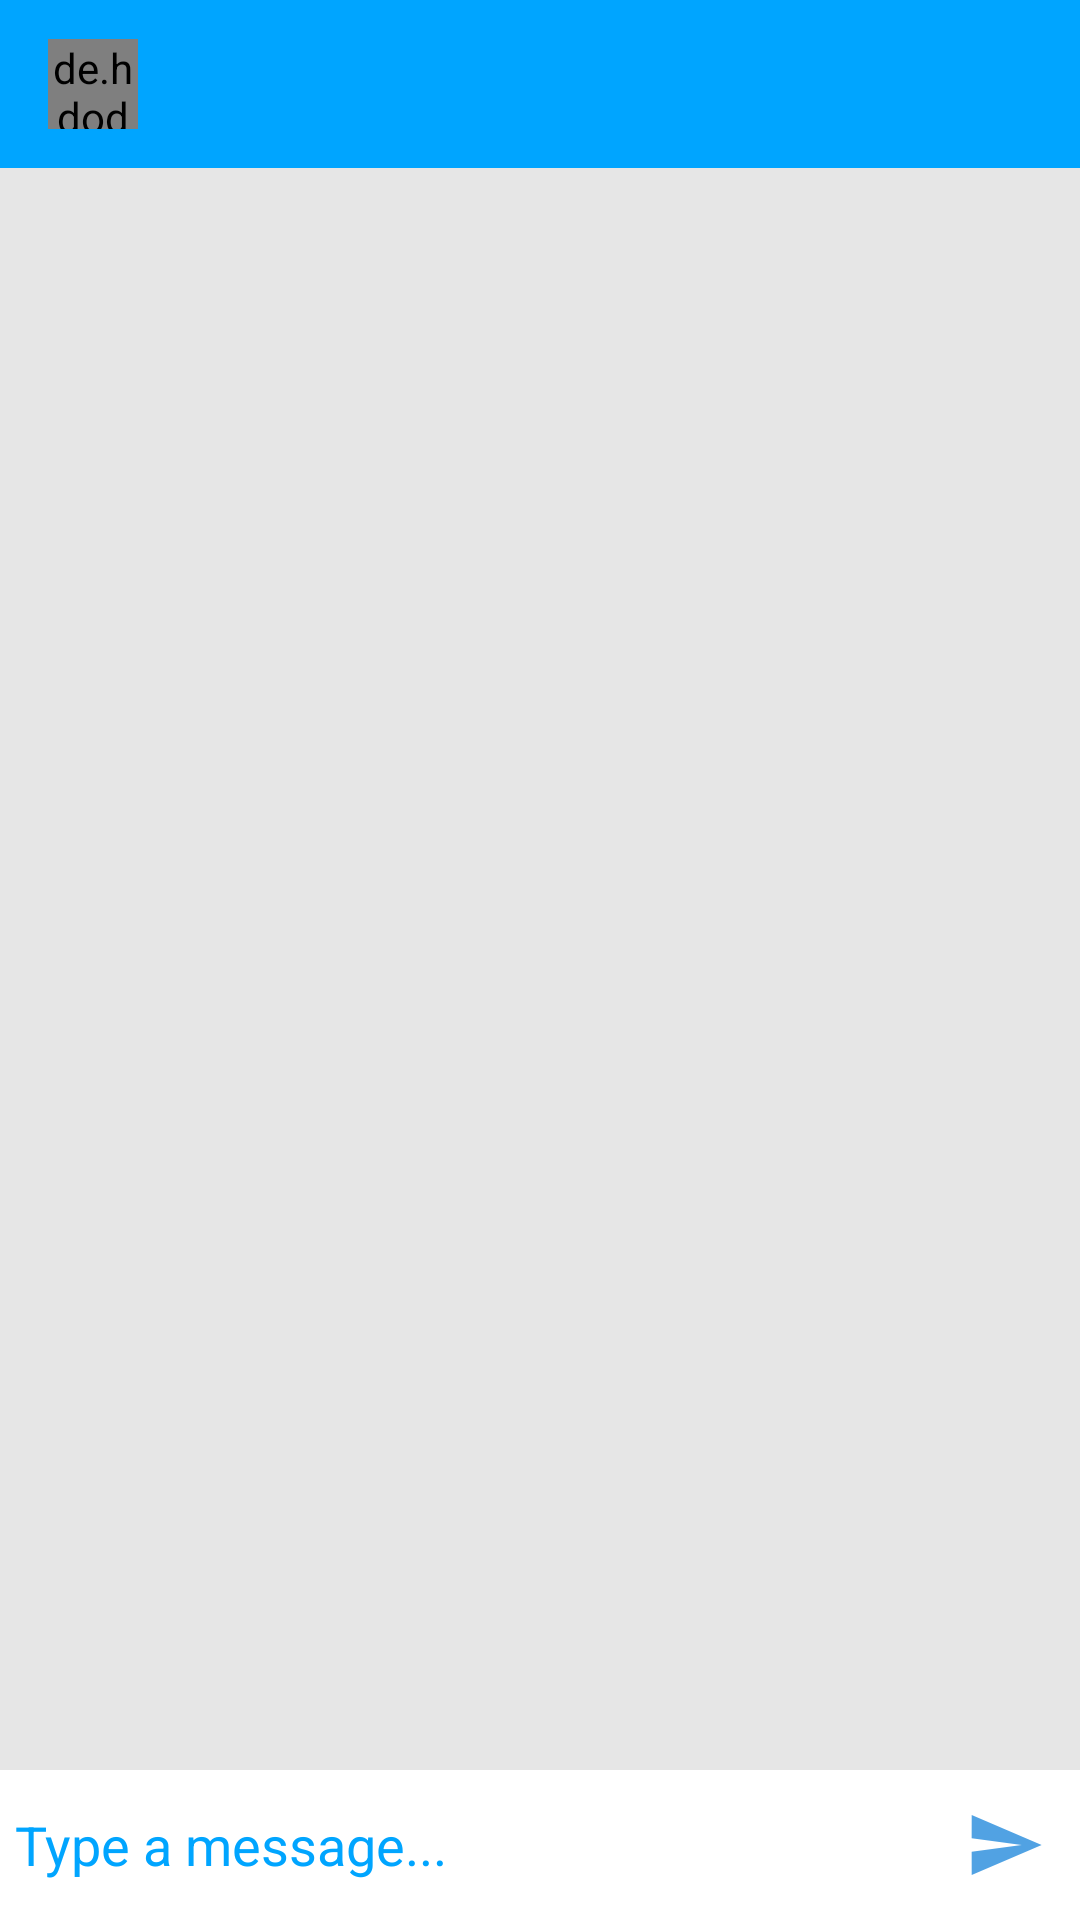

Named icons in this screenshot (1080w x 1920h) and their centers, point (x, y):
send: point (1006, 1845)
